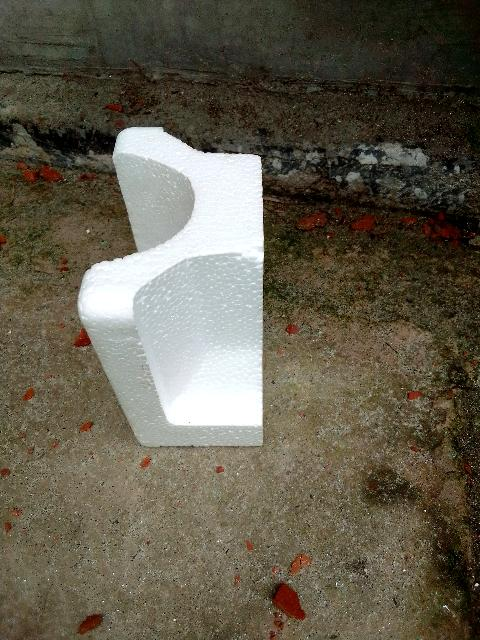cocksheet: (43, 115, 309, 469)
